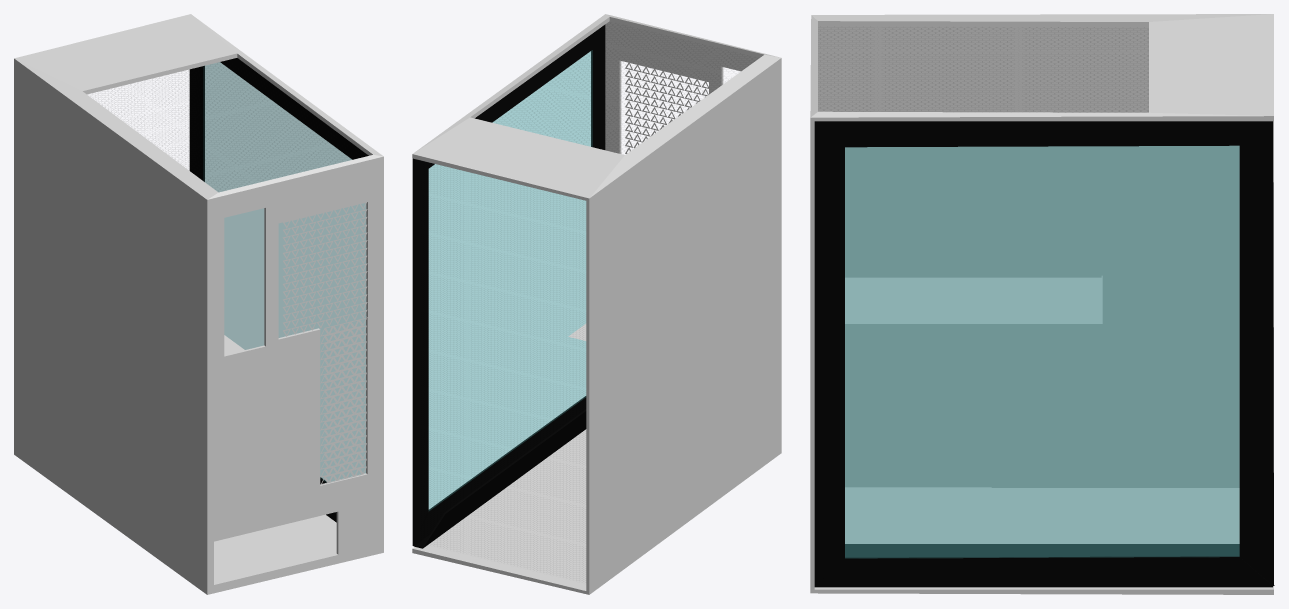
The model's file is pc_case_v2.glb.
3 views of the same model, side by side, from view 1: azimuth 30°, elevation 25°; view 2: azimuth 150°, elevation 25°; view 3: azimuth 270°, elevation 25° (orthographic). The views are drawn at different scales.
Visible parts, largest first — view 1: Cube, Side_Plate, PSU_Area; view 2: Cube, Side_Plate; view 3: Side_Plate, Cube, Motherboard_Area, GPU_Area, PSU_Area, Cooler_Area.001, Cooler_Area.
Boxes of the visible parts, x1,y1,x2,y2 form: Cube: (14, 14, 383, 594); Side_Plate: (189, 58, 368, 522); PSU_Area: (214, 523, 332, 583); Cube: (412, 14, 781, 594); Side_Plate: (412, 24, 605, 548); Side_Plate: (814, 121, 1274, 587); Cube: (810, 14, 1273, 594); Motherboard_Area: (821, 40, 1101, 357); GPU_Area: (845, 276, 1102, 323); PSU_Area: (845, 487, 991, 543); Cooler_Area.001: (1010, 65, 1079, 148); Cooler_Area: (874, 69, 931, 111).
Bounding box in the file's own units: 214 × 460 × 404.
Materials: 4 (1 with a texture image).
